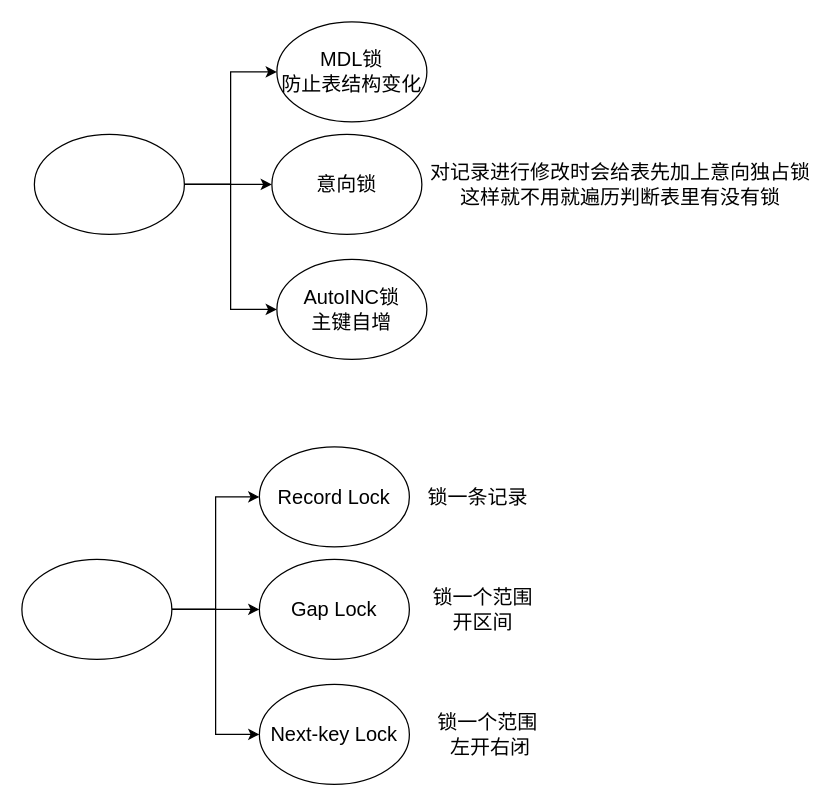
The diagram is 836 pixels wide and 806 high, and some of its shapes have lost their labels. Each missing label, with the box of its shape:
行级锁: (21, 558, 172, 659)
表级锁: (33, 133, 184, 234)
